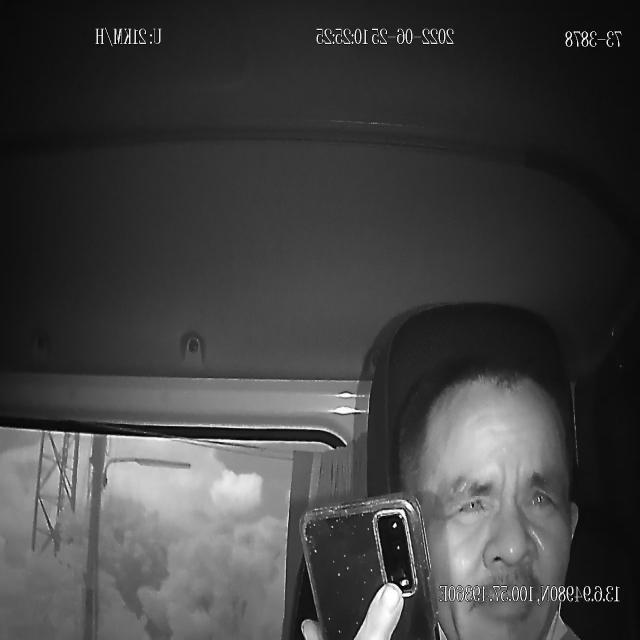phone: (302, 489, 438, 640)
